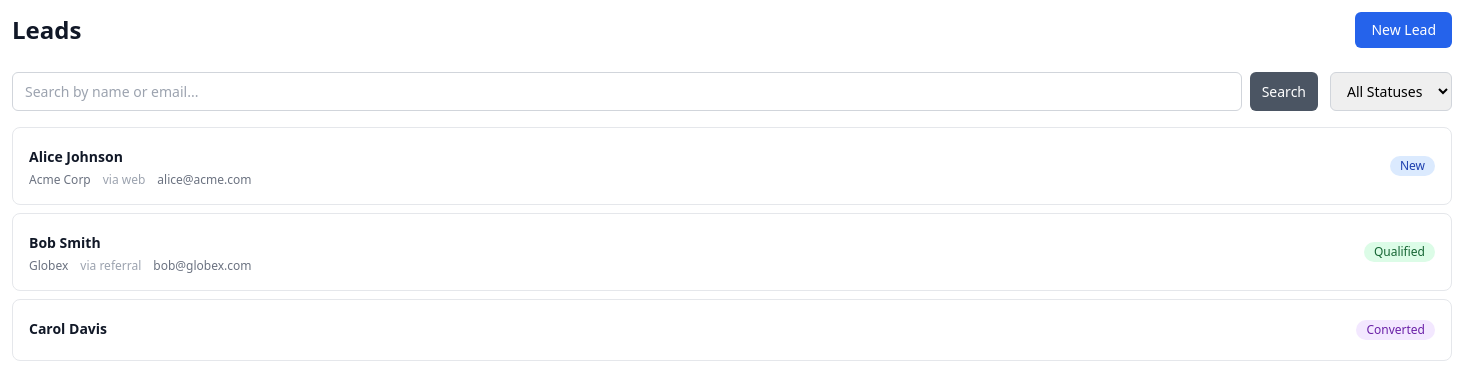
LeadsPage — search › US4-AC2: searching by name filters results
Check: the link "Alice Johnson" is shown, box [29,147,123,166]
Type "Alice" into the field named "search leads" at (627, 92), box [12,72,1242,111]
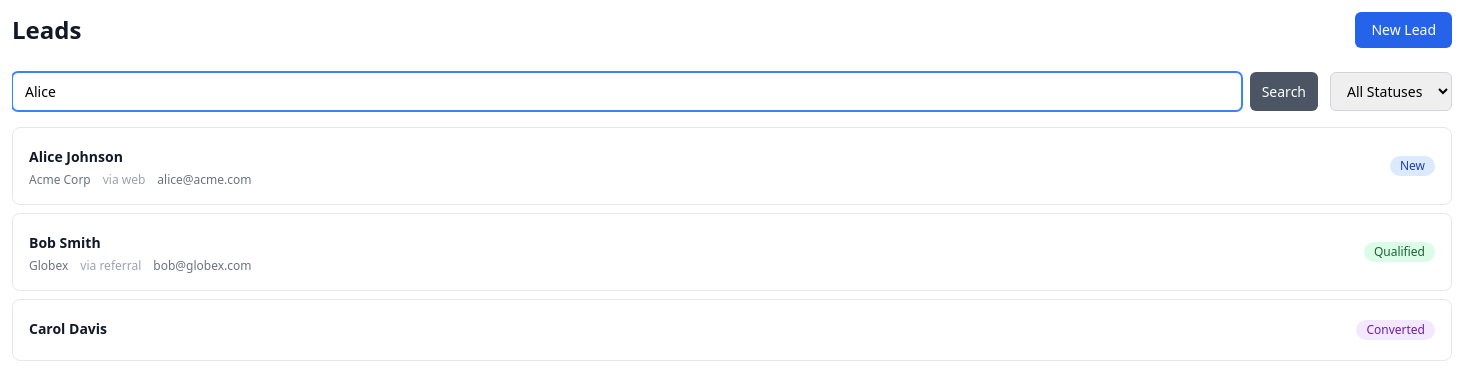
Click the button "Search" at (1284, 92), box [1250,72,1318,111]
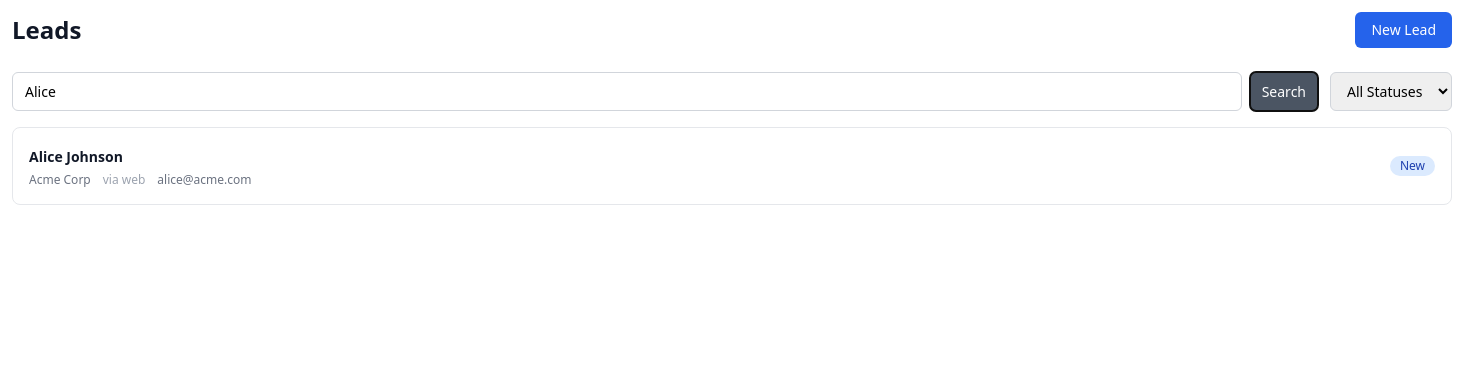
Check: the link "Alice Johnson" is shown, box [29,147,123,166]
Check: the link "Bob Smith" is gone
Check: the link "Carol Davis" is gone
